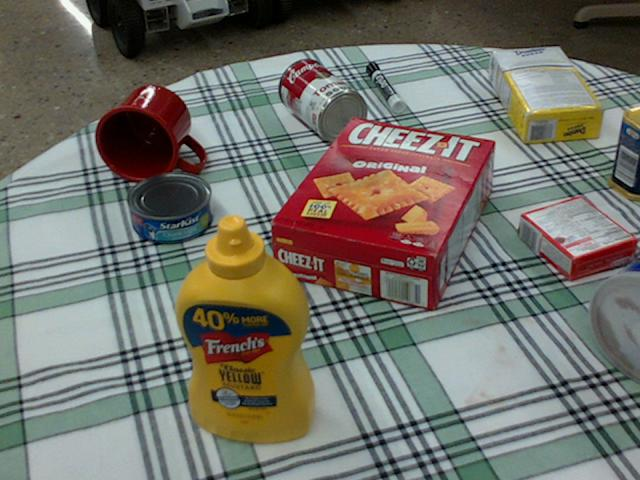cracker_box: (269, 118, 498, 309)
gelatin_box: (517, 195, 634, 277)
large_marker: (365, 62, 403, 111)
master_chef_can: (591, 256, 639, 383)
mug: (94, 85, 204, 182)
mustard_bottle: (174, 213, 316, 441)
potted_meat_can: (606, 105, 639, 200)
sugar_box: (489, 47, 605, 143)
tomato_soup_can: (277, 57, 366, 140)
tuna_fish_can: (124, 171, 211, 242)
